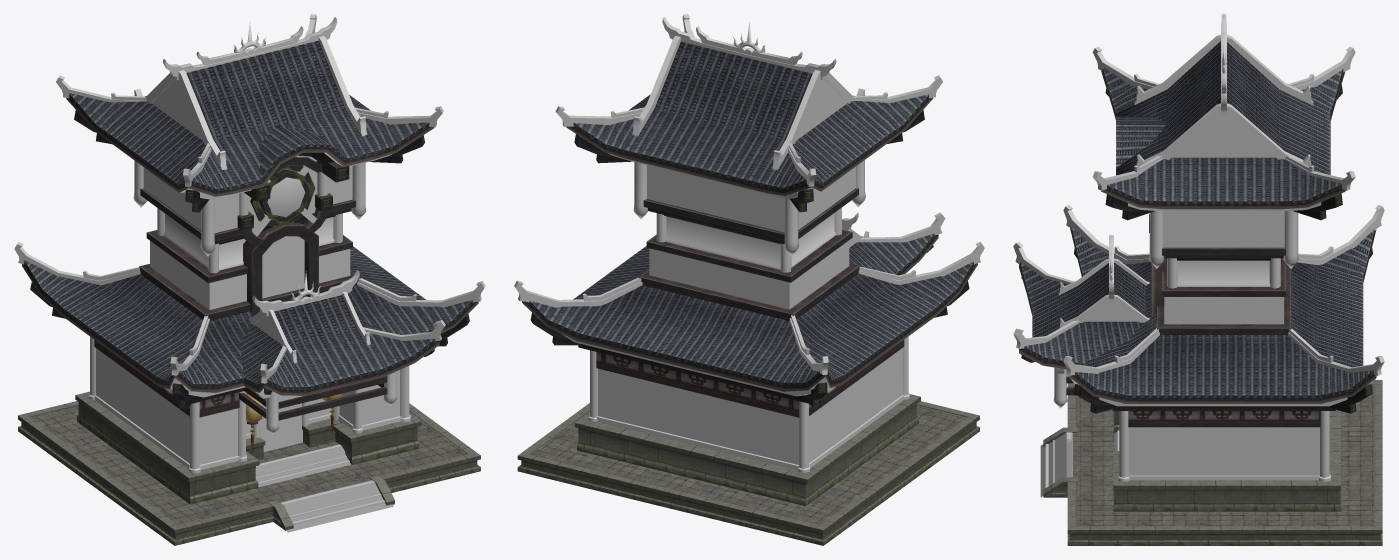
The model's file is JiaYeSi_ZhongLou_1.FBX.
The picture shows the model from 3 angles, left to right: view 1: azimuth 30°, elevation 25°; view 2: azimuth 150°, elevation 25°; view 3: azimuth 270°, elevation 25°; orthographic projection.
Parts seen in each view (by area): view 1: JiaYeSi_ZhongLou_1b, JiaYeSi_ZhongLou_1h, JiaYeSi_ZhongLou_1e, JiaYeSi_ZhongLou_1d, JiaYeSi_ZhongLou_1a, JiaYeSi_ZhongLou_1i, JiaYeSi_ZhongLou_1f, JiaYeSi_ZhongLou_1_Xzm, JiaYeSi_ZhongLou_1j, JiaYeSi_ZhongLou_1l, JiaYeSi_ZhongLou_1g, JiaYeSi_ZhongLou_1c; view 2: JiaYeSi_ZhongLou_1b, JiaYeSi_ZhongLou_1h, JiaYeSi_ZhongLou_1e, JiaYeSi_ZhongLou_1f, JiaYeSi_ZhongLou_1d, JiaYeSi_ZhongLou_1a, JiaYeSi_ZhongLou_1i, JiaYeSi_ZhongLou_1g, JiaYeSi_ZhongLou_1c; view 3: JiaYeSi_ZhongLou_1b, JiaYeSi_ZhongLou_1h, JiaYeSi_ZhongLou_1a, JiaYeSi_ZhongLou_1e, JiaYeSi_ZhongLou_1i, JiaYeSi_ZhongLou_1f, JiaYeSi_ZhongLou_1d, JiaYeSi_ZhongLou_1g, JiaYeSi_ZhongLou_1_Xzm, JiaYeSi_ZhongLou_1c.
Boxes of the visible parts, x1,y1,x2,y2 form: JiaYeSi_ZhongLou_1b: [22, 41, 478, 395]; JiaYeSi_ZhongLou_1h: [18, 391, 480, 545]; JiaYeSi_ZhongLou_1e: [89, 156, 410, 473]; JiaYeSi_ZhongLou_1d: [30, 110, 469, 420]; JiaYeSi_ZhongLou_1a: [14, 14, 485, 383]; JiaYeSi_ZhongLou_1i: [31, 405, 467, 524]; JiaYeSi_ZhongLou_1f: [94, 155, 401, 469]; JiaYeSi_ZhongLou_1_Xzm: [255, 444, 393, 532]; JiaYeSi_ZhongLou_1j: [255, 444, 385, 525]; JiaYeSi_ZhongLou_1l: [260, 403, 302, 451]; JiaYeSi_ZhongLou_1g: [94, 340, 239, 412]; JiaYeSi_ZhongLou_1c: [164, 152, 391, 397]; JiaYeSi_ZhongLou_1b: [522, 41, 977, 391]; JiaYeSi_ZhongLou_1h: [517, 394, 979, 545]; JiaYeSi_ZhongLou_1e: [588, 160, 909, 472]; JiaYeSi_ZhongLou_1f: [596, 348, 904, 469]; JiaYeSi_ZhongLou_1d: [530, 110, 969, 417]; JiaYeSi_ZhongLou_1a: [514, 14, 984, 374]; JiaYeSi_ZhongLou_1i: [530, 405, 966, 524]; JiaYeSi_ZhongLou_1g: [596, 340, 904, 412]; JiaYeSi_ZhongLou_1c: [537, 153, 836, 396]; JiaYeSi_ZhongLou_1b: [1019, 41, 1376, 403]; JiaYeSi_ZhongLou_1h: [1043, 380, 1382, 545]; JiaYeSi_ZhongLou_1a: [1013, 14, 1384, 375]; JiaYeSi_ZhongLou_1e: [1053, 211, 1330, 482]; JiaYeSi_ZhongLou_1i: [1073, 384, 1373, 526]; JiaYeSi_ZhongLou_1f: [1128, 323, 1320, 480]; JiaYeSi_ZhongLou_1d: [1021, 84, 1372, 427]; JiaYeSi_ZhongLou_1g: [1128, 411, 1320, 422]; JiaYeSi_ZhongLou_1_Xzm: [1040, 431, 1117, 497]; JiaYeSi_ZhongLou_1c: [1019, 202, 1375, 406].
Size of the model in its own units: 3144 by 4117 by 3196.
